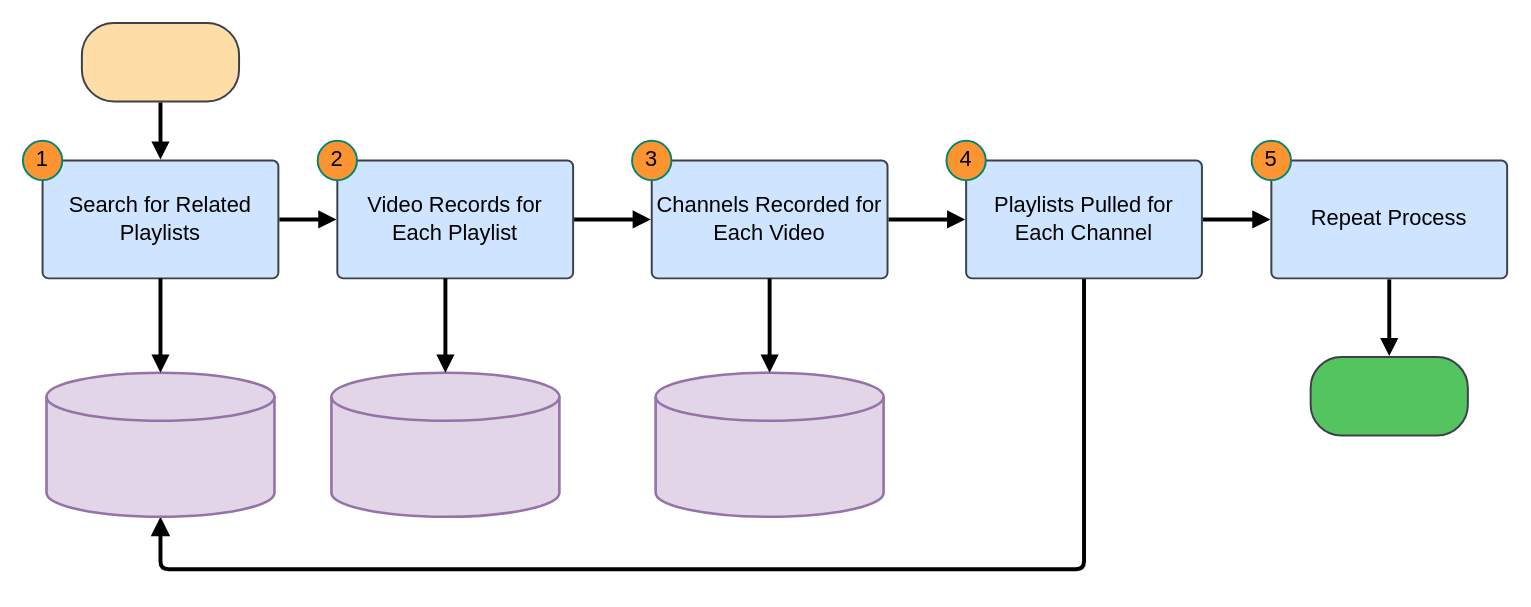
This 1531x607 diagram has some shape labels left out. Here are the shapes that lost their labels. From the top down, the centre of each, then its label:
pixel 159 61: Start
pixel 1388 395: Finish
pixel 160 444: Playlists
pixel 444 444: Playlist Videos
pixel 769 444: Channels
